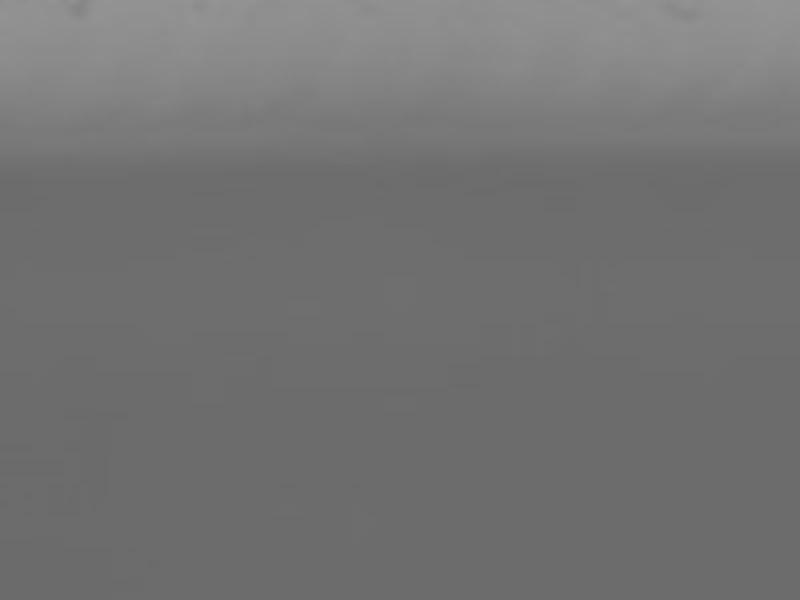defect: (62, 1, 96, 16)
